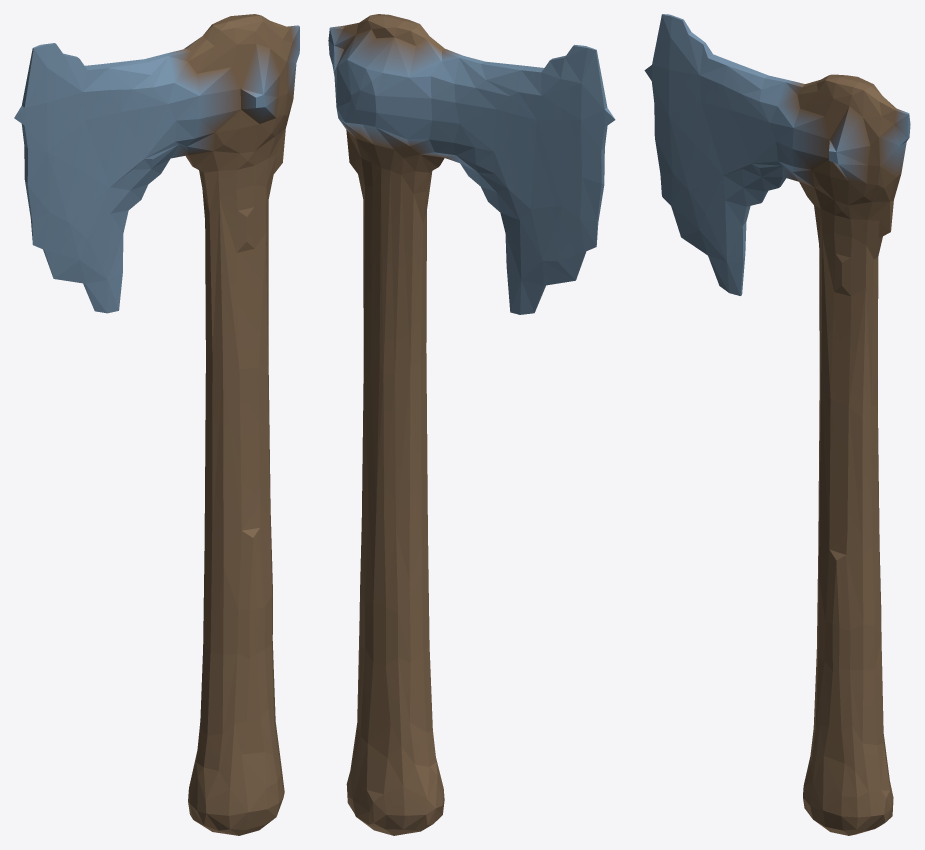
The model's file is axe_stormforged.glb.
3 renders of one model, left to right at view 1: azimuth 30°, elevation 25°; view 2: azimuth 150°, elevation 25°; view 3: azimuth 330°, elevation 25°, orthographic. The views are drawn at different scales.
Visible parts, largest first — view 1: world; view 2: world; view 3: world.
Boxes of the visible parts, left/top/right/bottom form: world: left=14, top=14, right=299, bottom=835; world: left=328, top=14, right=615, bottom=835; world: left=644, top=14, right=910, bottom=835.
Size of the model in its own units: 0.3604 by 1 by 0.0949.
